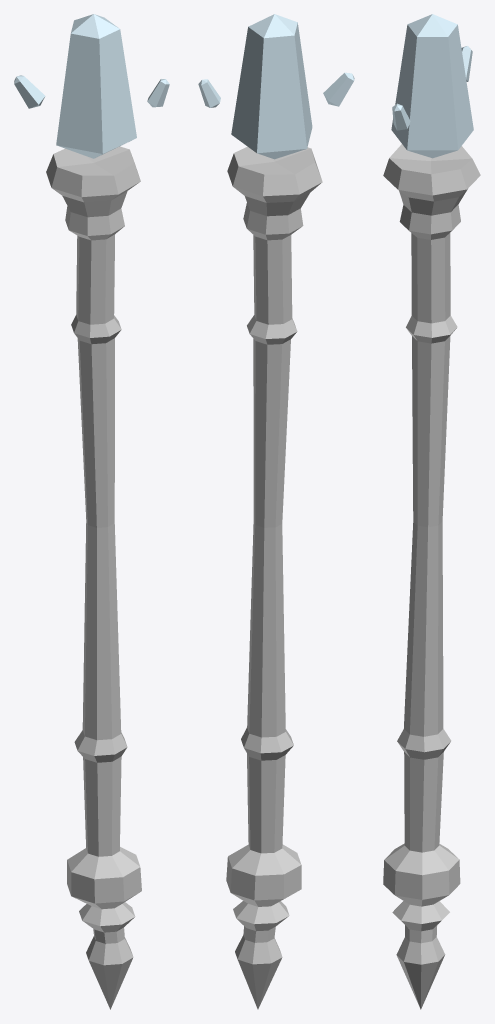
File: q_ice_staff.gltf
The picture shows the model from 3 angles, left to right: view 1: azimuth 30°, elevation 25°; view 2: azimuth 210°, elevation 25°; view 3: azimuth 270°, elevation 25°; orthographic projection.
Visible parts, largest first — view 1: IceStaff; view 2: IceStaff; view 3: IceStaff.
Boxes of the visible parts, box(x1,y1,x2,y2) form: IceStaff: box(14, 14, 169, 1009); IceStaff: box(198, 14, 354, 1009); IceStaff: box(383, 14, 480, 1009).
Bounding box in the file's own units: 0.1958 × 1.55 × 0.1385.
